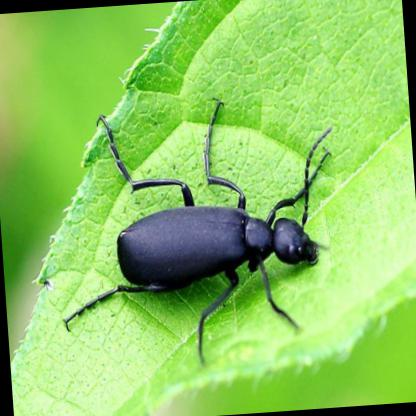blister beetle: (64, 102, 326, 364)
